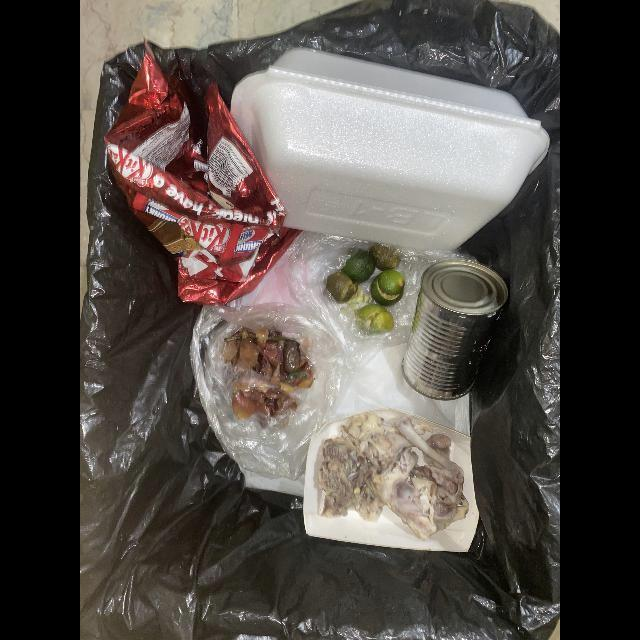aluminum: (401, 260, 509, 402)
cardboard: (303, 408, 480, 554)
food_wrapper: (104, 41, 302, 306)
left_over_food: (318, 411, 469, 541), (223, 328, 313, 420), (327, 272, 370, 310), (370, 270, 405, 307), (343, 249, 374, 285), (357, 304, 394, 333), (370, 243, 403, 270)
plastic_bag: (189, 303, 354, 481), (287, 231, 477, 359)
